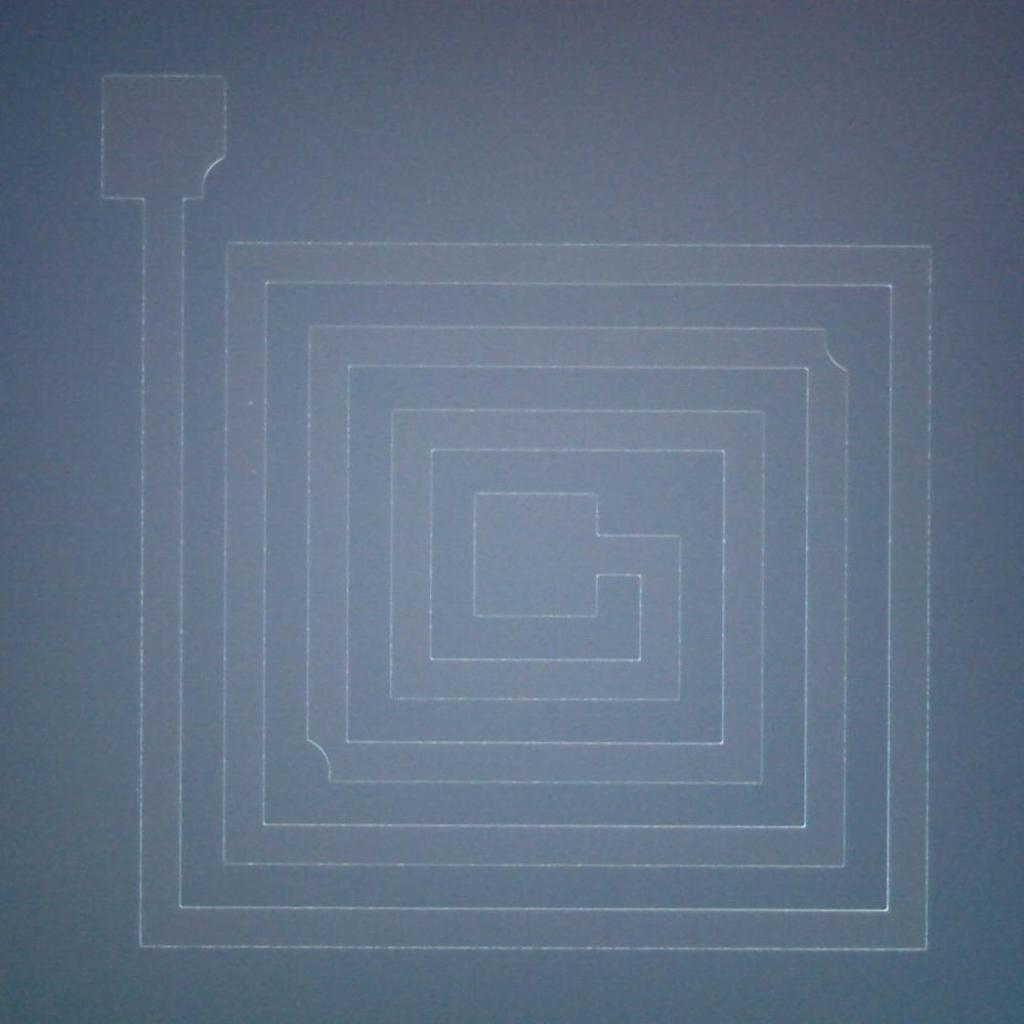dot: (249, 402, 253, 404)
